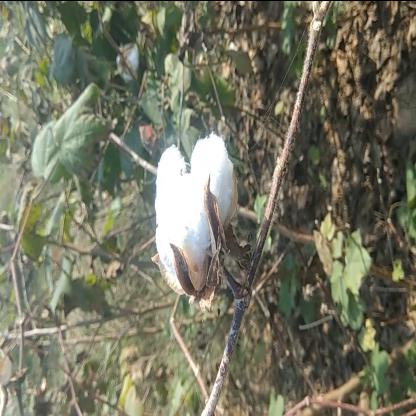cotton_ready: (134, 120, 280, 320)
